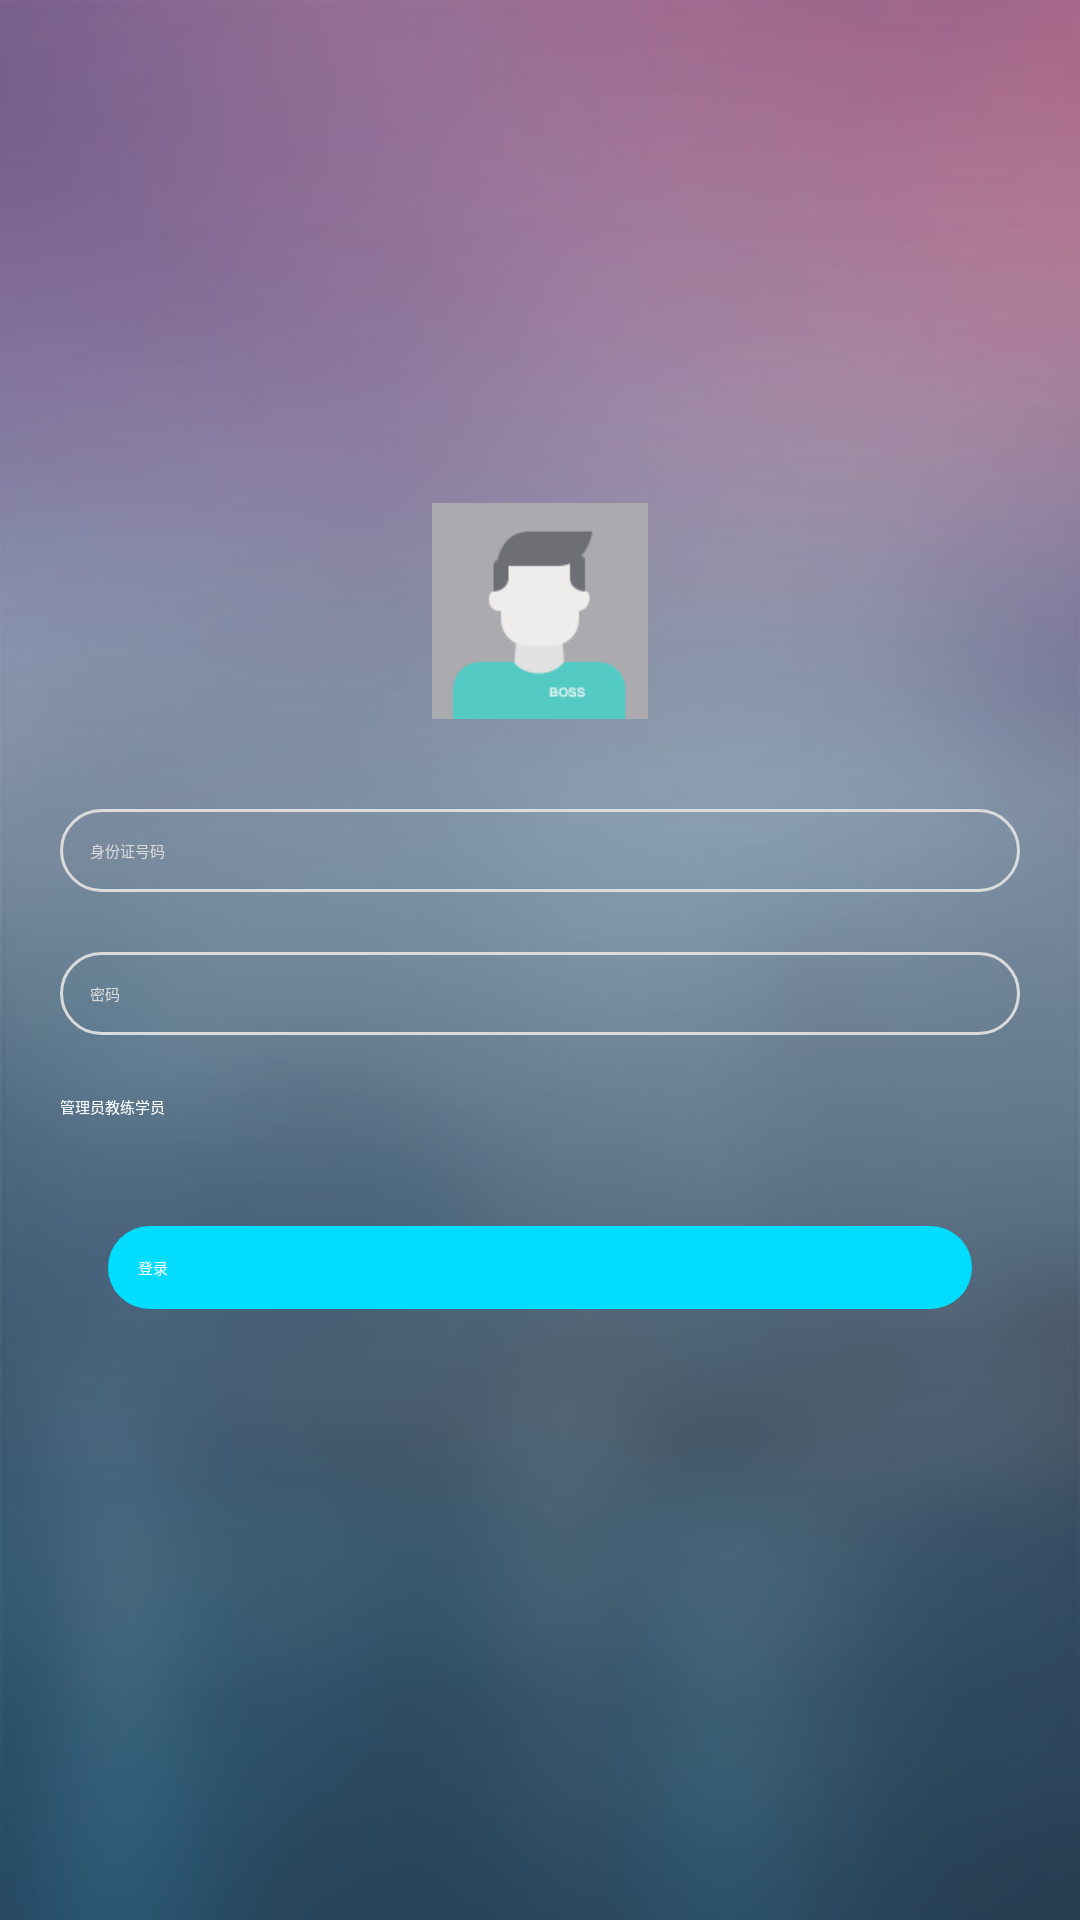

Named icons in this screenshot (1080 × 1920) and their bounding boxes, (x1, y1, x2, y2):
head photo: (432, 503, 648, 719)
